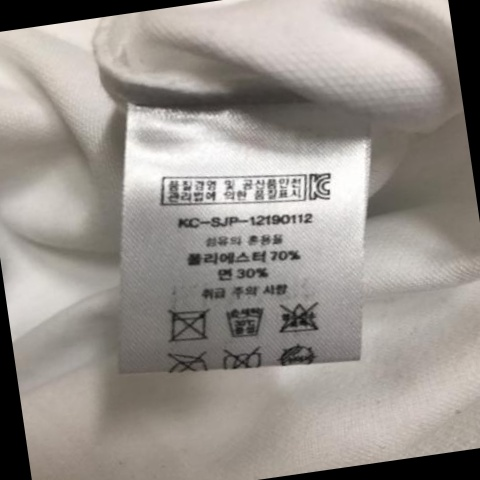DN_bleach: (270, 294, 327, 340)
DN_iron: (165, 346, 212, 380)
DN_wash: (164, 303, 215, 348)
DN_wring: (218, 342, 271, 377)
dry_flat_in_shade: (275, 338, 321, 370)
hand_wash: (220, 294, 275, 345)
